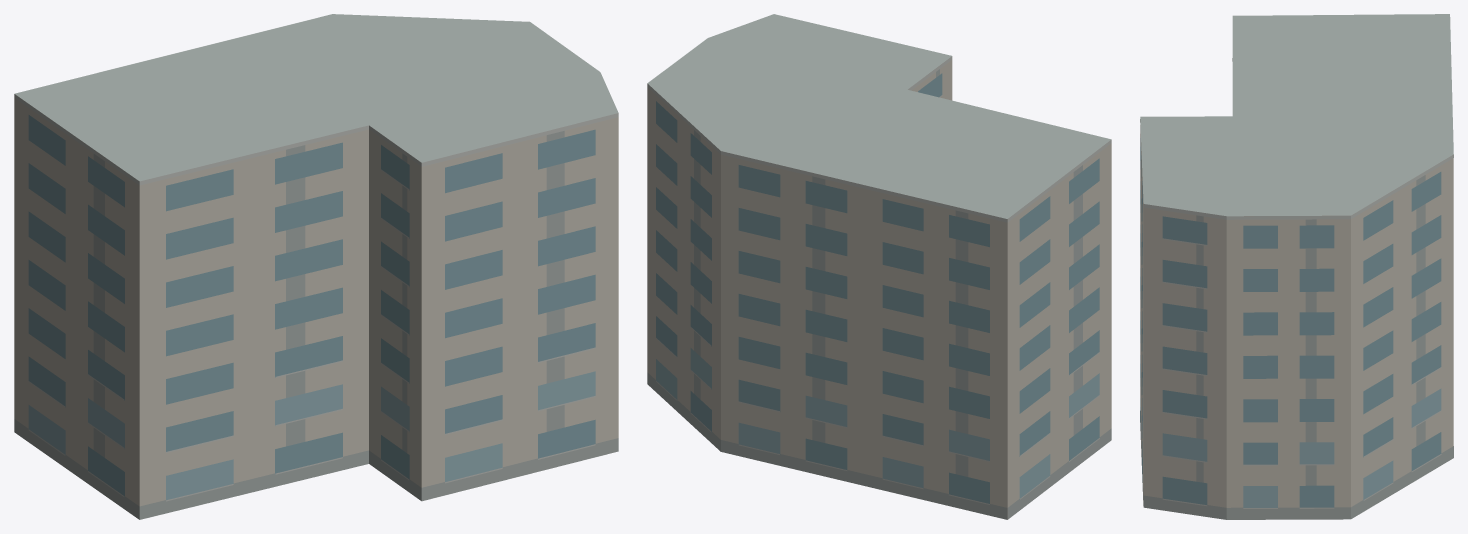
Rendered from survey-upis-32781165.glb.
The picture shows the model from 3 angles, left to right: view 1: azimuth 30°, elevation 25°; view 2: azimuth 150°, elevation 25°; view 3: azimuth 270°, elevation 25°; orthographic projection. The views are drawn at different scales.
Visible parts, largest first — view 1: survey-upis-32781165.tmp; view 2: survey-upis-32781165.tmp; view 3: survey-upis-32781165.tmp.
Boxes of the visible parts, x1,y1,x2,y2 form: survey-upis-32781165.tmp: (14,14,618,519); survey-upis-32781165.tmp: (647,14,1111,519); survey-upis-32781165.tmp: (1140,14,1453,519).
Size of the model in its own units: 29.05 by 20.34 by 19.05.
